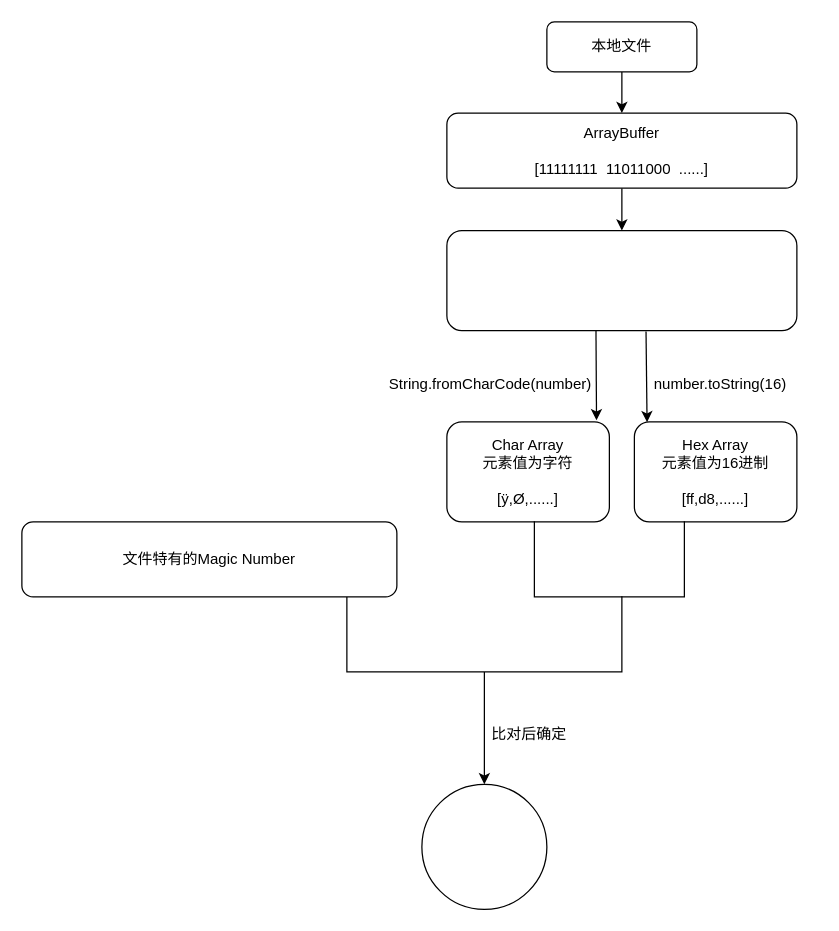
Some shapes in this 839 by 931 pixel diagram are drawn without their labels. The centre of each missing label's shape, as x and y in pixels:
"Uint8Array 元素值为10进制 [255,216,......]" goes at point (621, 280).
"文件的类型" goes at point (484, 846).
